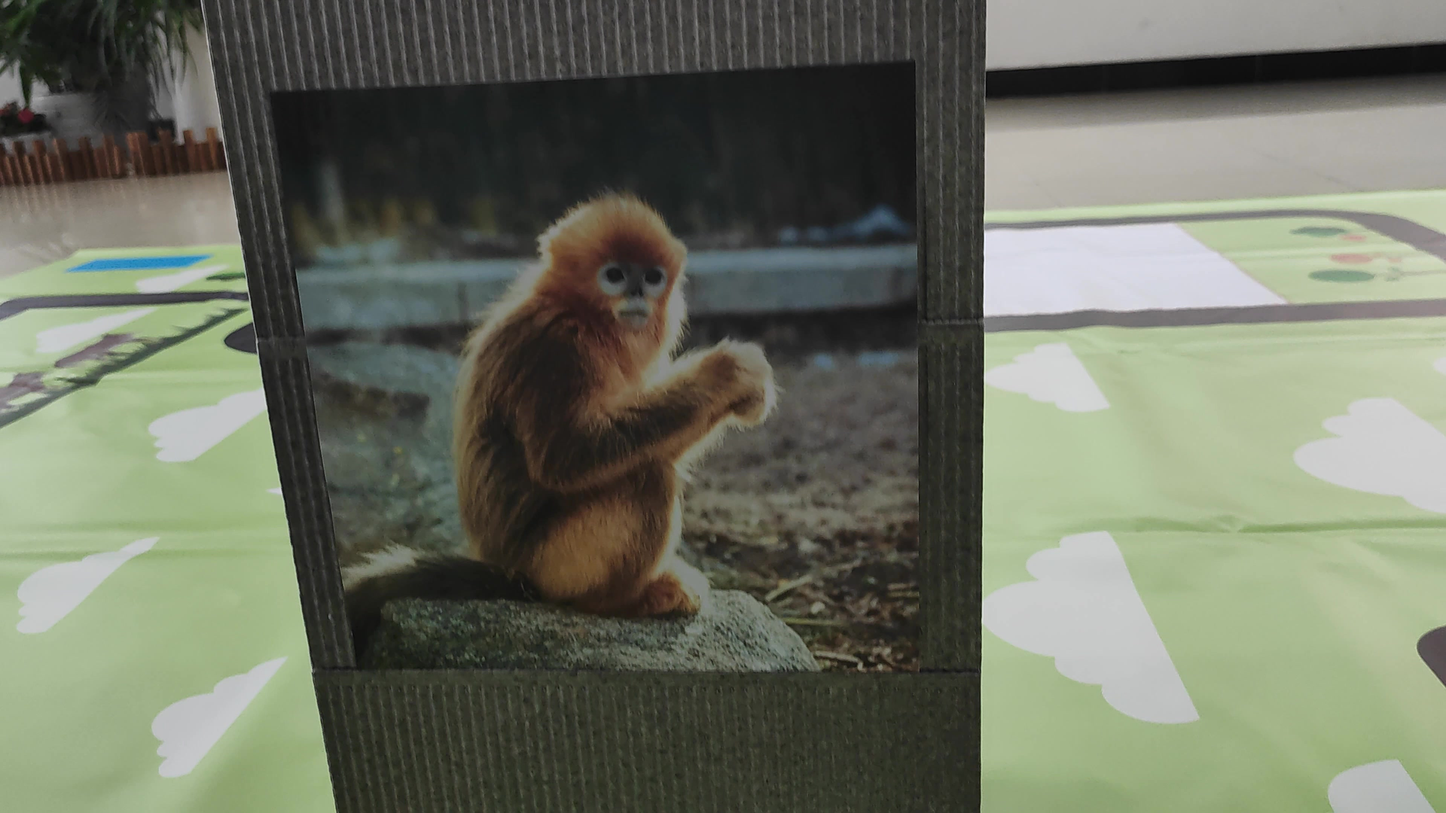monkey: (387, 110, 858, 615)
